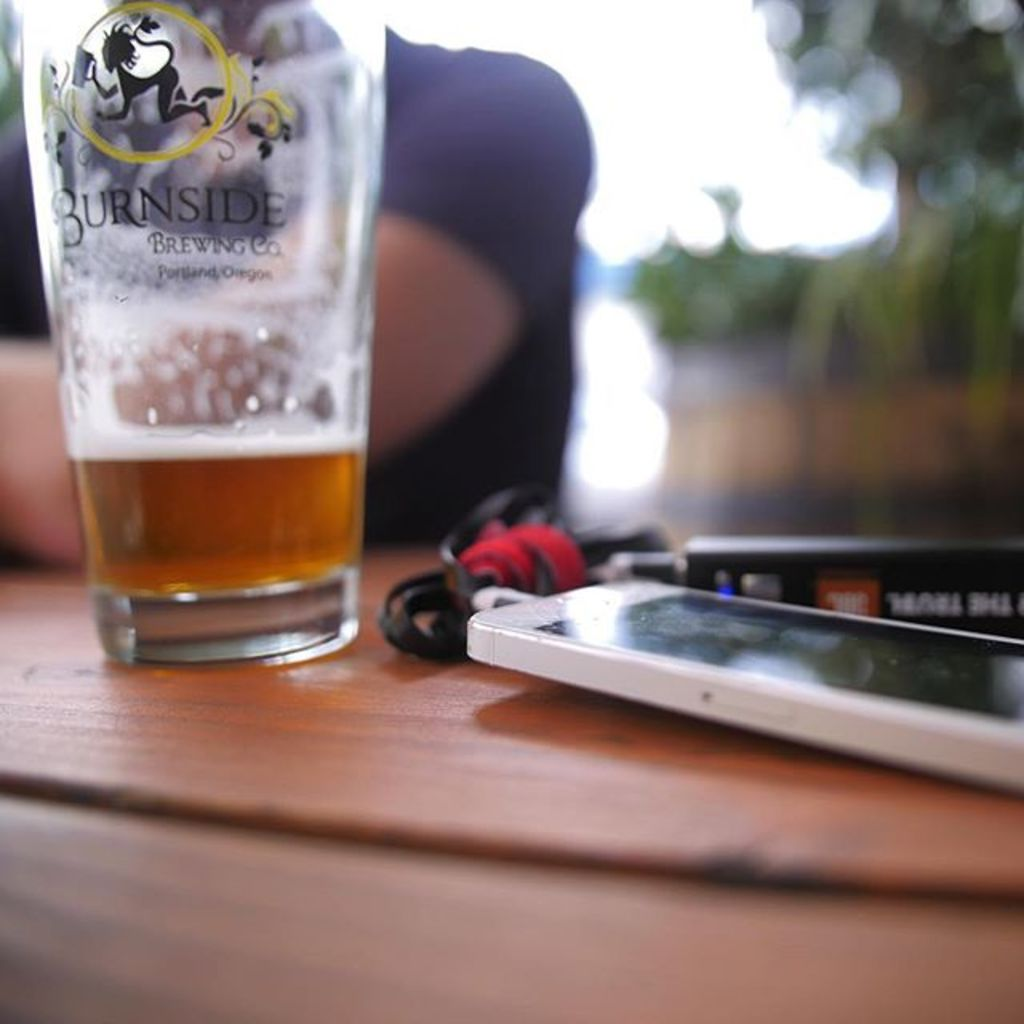Beer: (19, 0, 398, 667)
